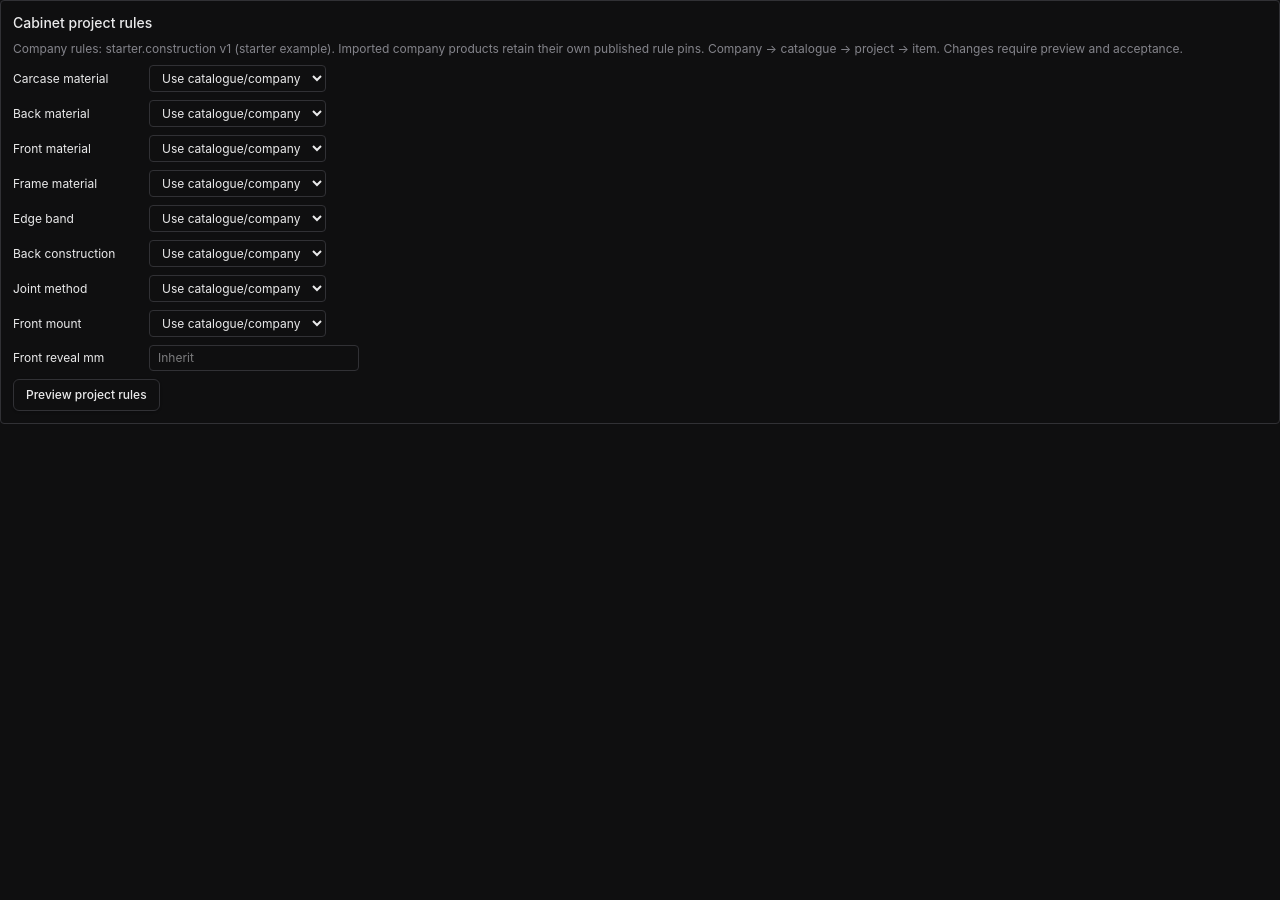
Test: CabinetRulesPanel › invalidates a preview after editing and reports stale acceptance
The image size is (1280, 900).
Type "5" into the number field named "Project Front reveal mm" at (254, 358), box [149,345,359,371]
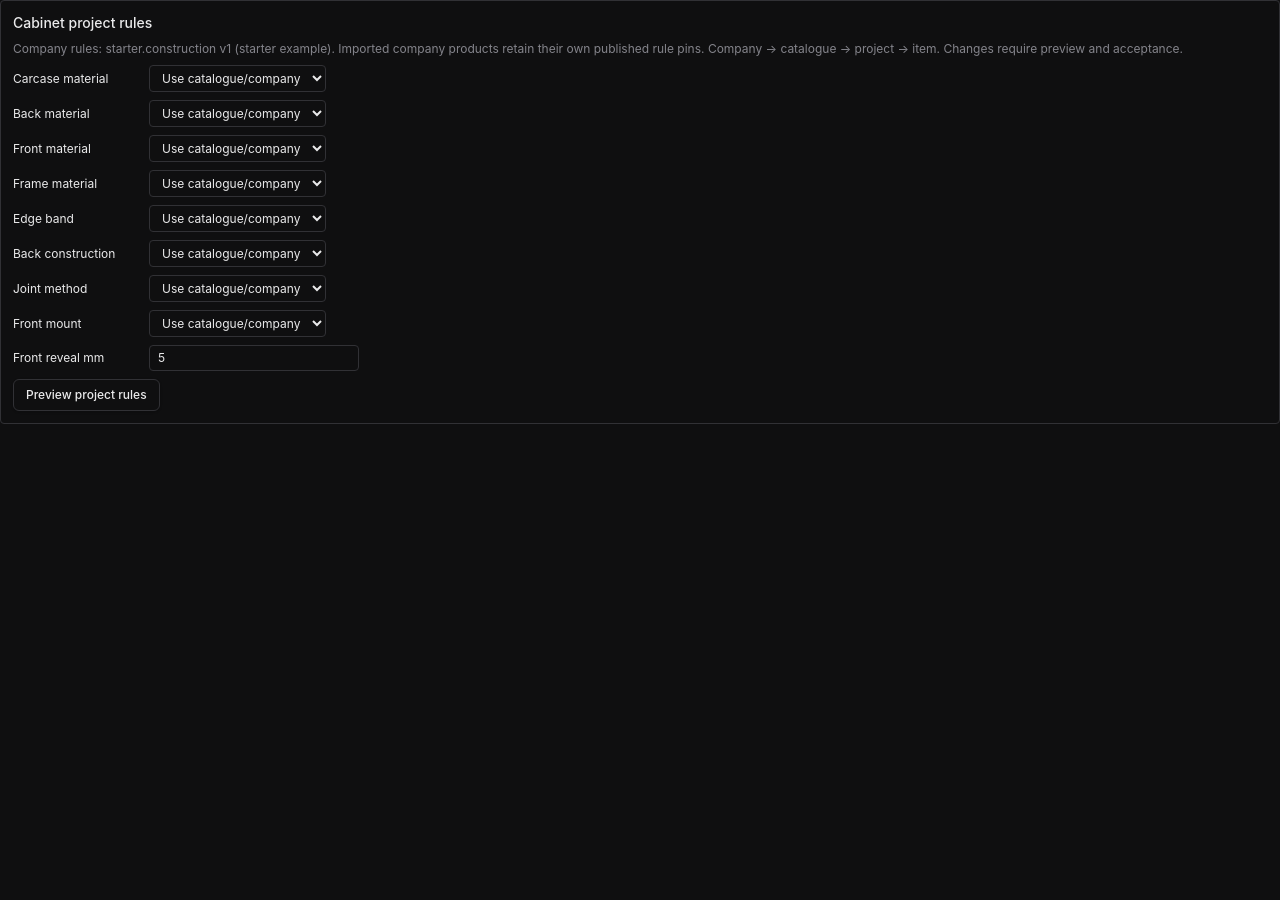
Click the button "Preview project rules" at (86, 395), box [13,379,160,411]
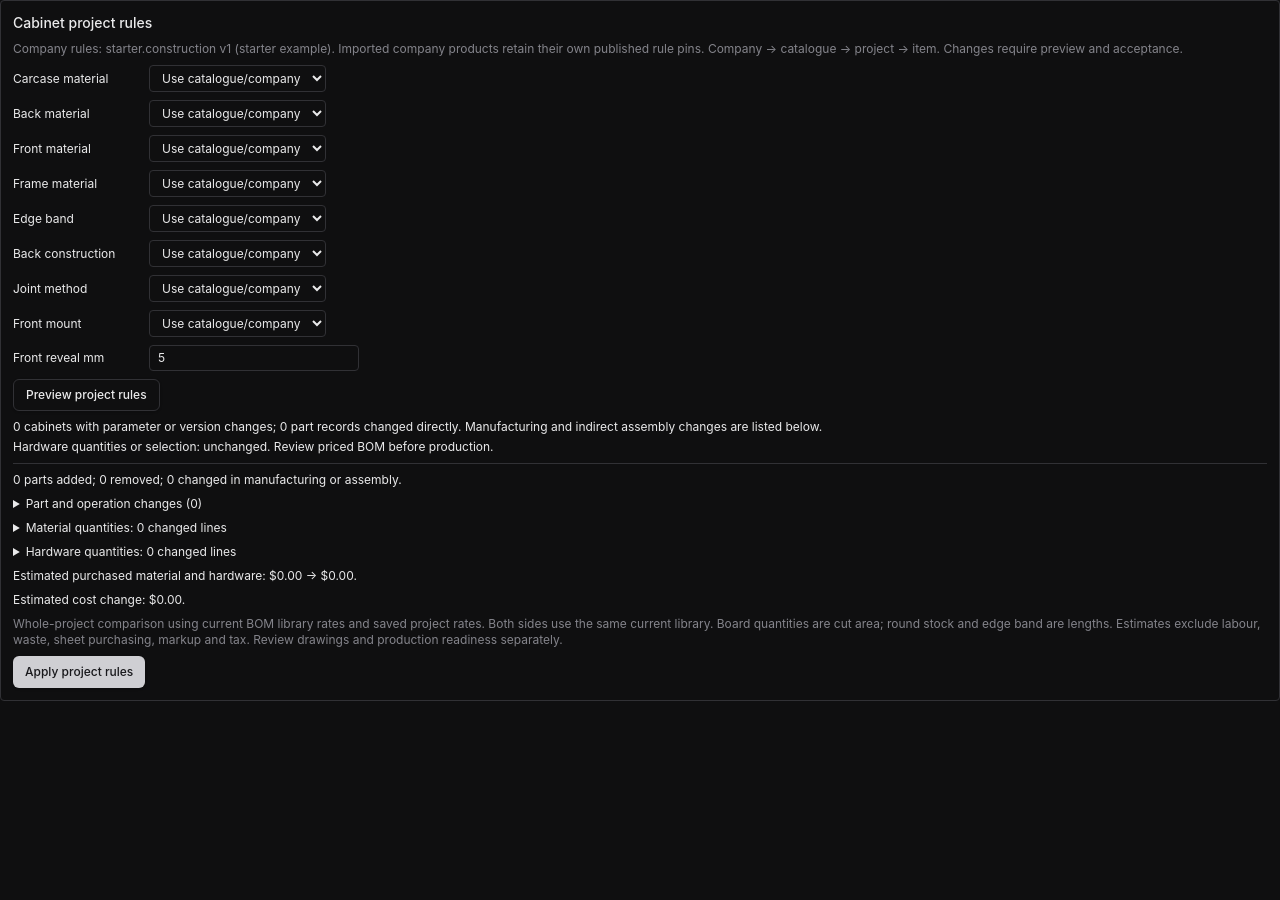
Expected: the button "Apply project rules" is shown
Click the button "Apply project rules" at (79, 672), box [13,656,145,688]
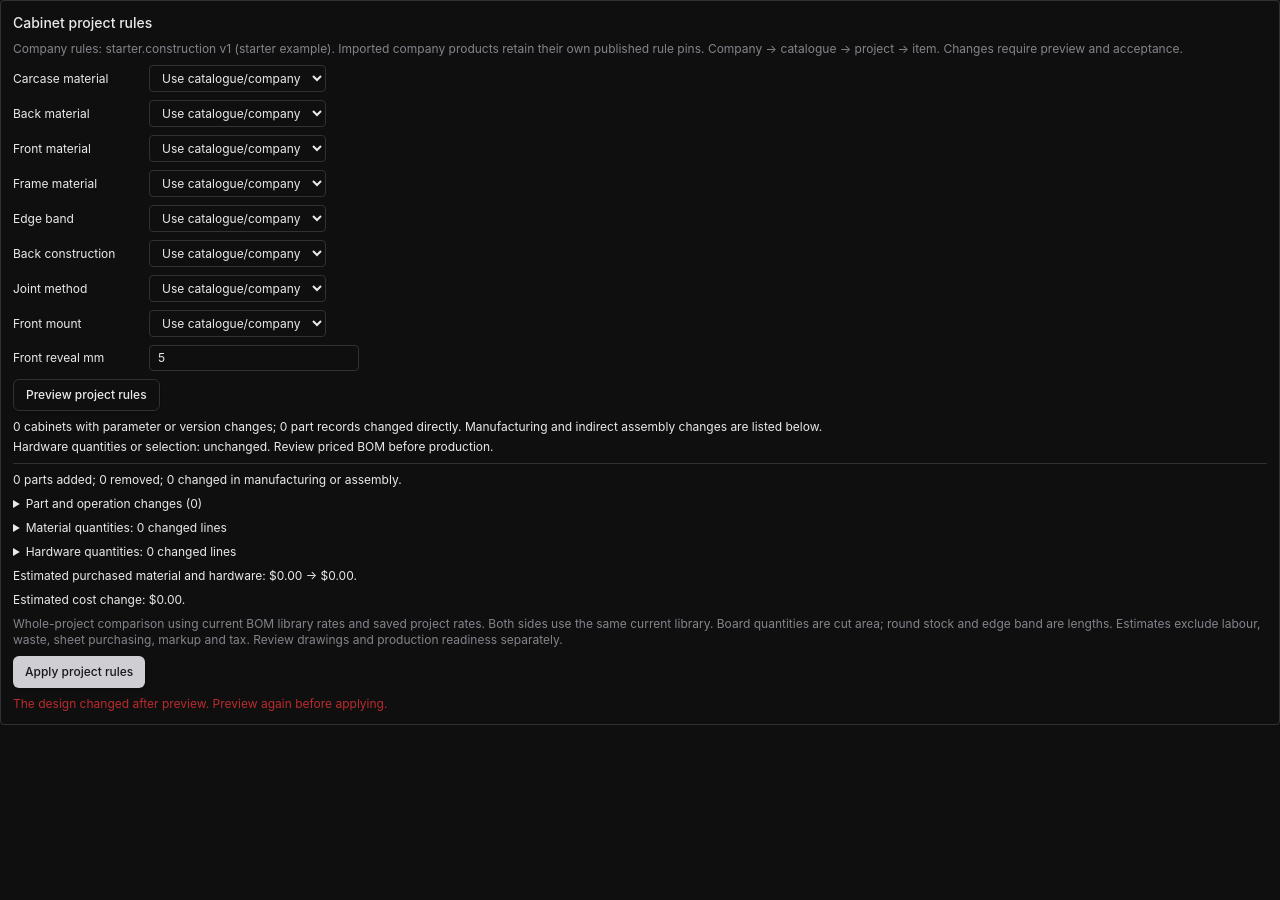
Expected: the message shows "design changed", [13,696,387,711]
Replace the text in the number field named "Project Front reveal mm" with "6" at (254, 358), box [149,345,359,371]
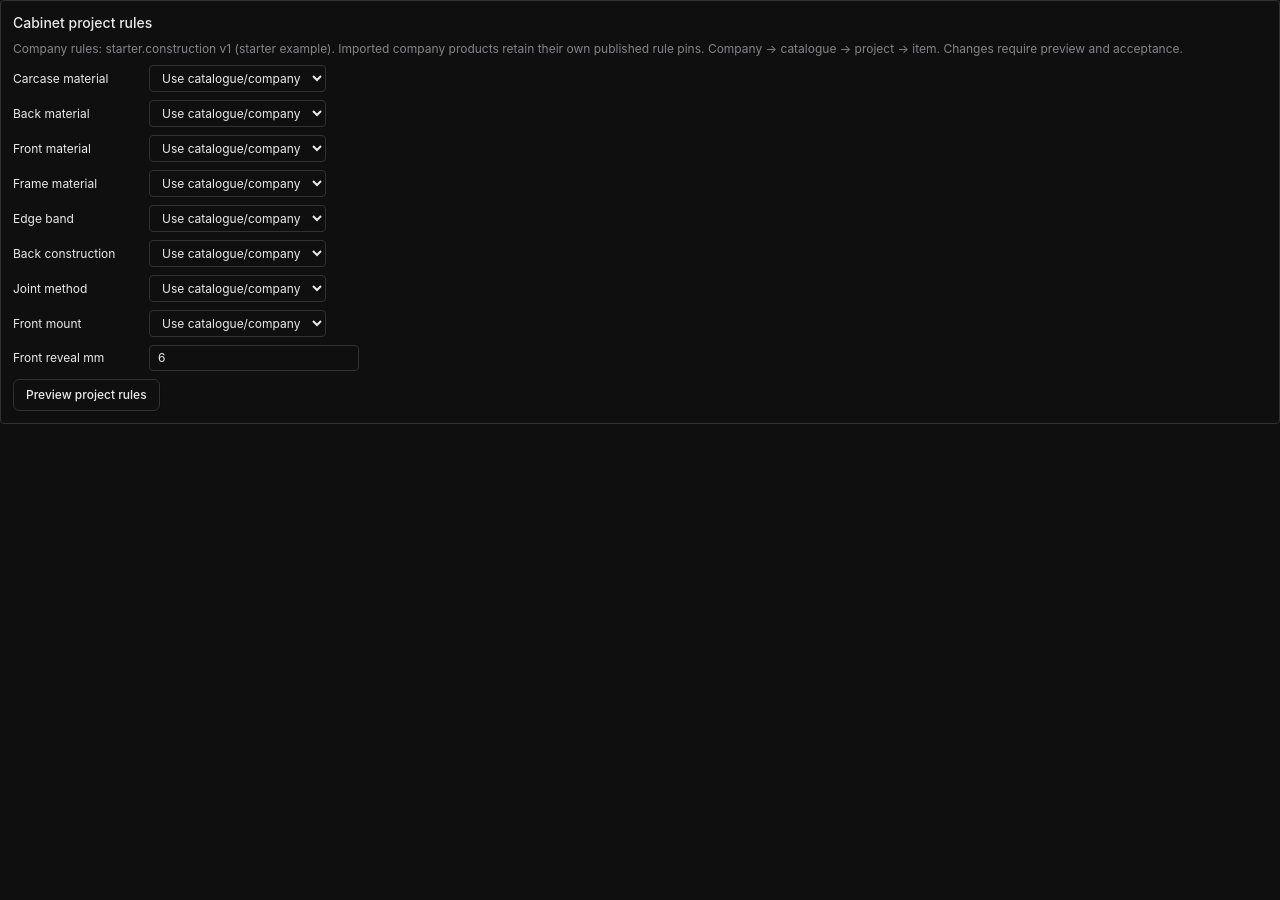
Expected: the button "Apply project rules" is gone
